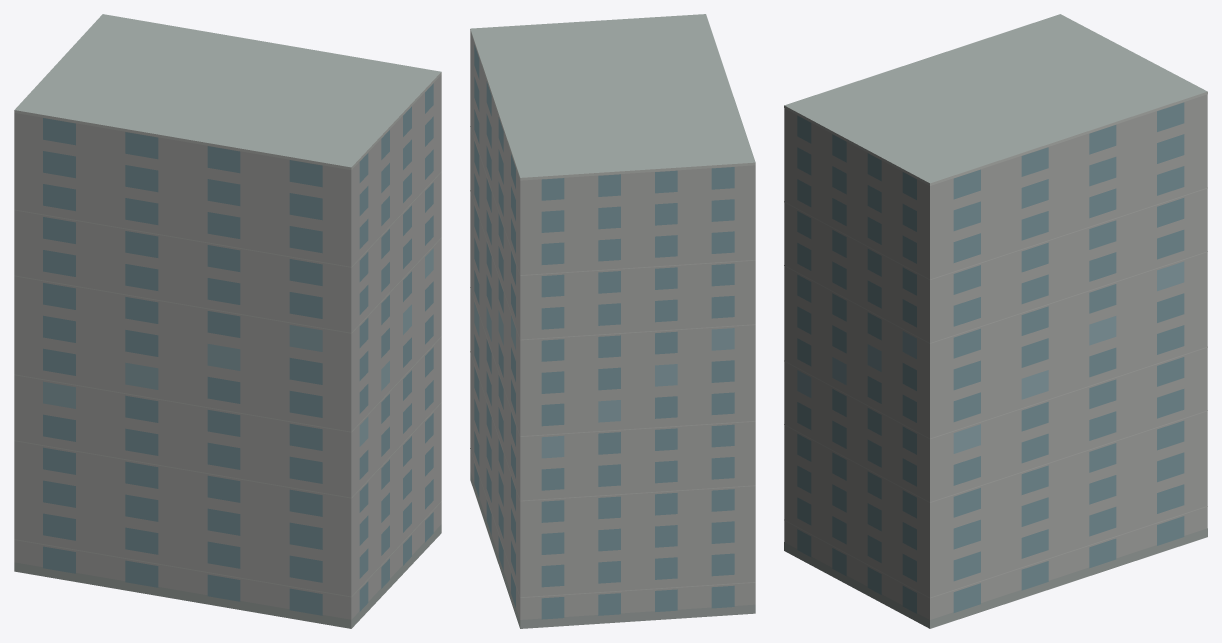
The model's file is residential-0806dd23-c536-4034-b12d-04aed224a661.glb.
3 views of the same model, side by side, from view 1: azimuth 30°, elevation 25°; view 2: azimuth 150°, elevation 25°; view 3: azimuth 270°, elevation 25° (orthographic). The views are drawn at different scales.
Visible parts, largest first — view 1: residential-0806dd23-c536-4034-b12d-04aed224a661.tmp; view 2: residential-0806dd23-c536-4034-b12d-04aed224a661.tmp; view 3: residential-0806dd23-c536-4034-b12d-04aed224a661.tmp.
Part boxes in pixels (x1,y1,x2,y2): residential-0806dd23-c536-4034-b12d-04aed224a661.tmp: [14, 14, 441, 628]; residential-0806dd23-c536-4034-b12d-04aed224a661.tmp: [470, 14, 755, 628]; residential-0806dd23-c536-4034-b12d-04aed224a661.tmp: [784, 14, 1207, 628].
Size of the model in its own units: 33.46 by 41 by 35.35.
